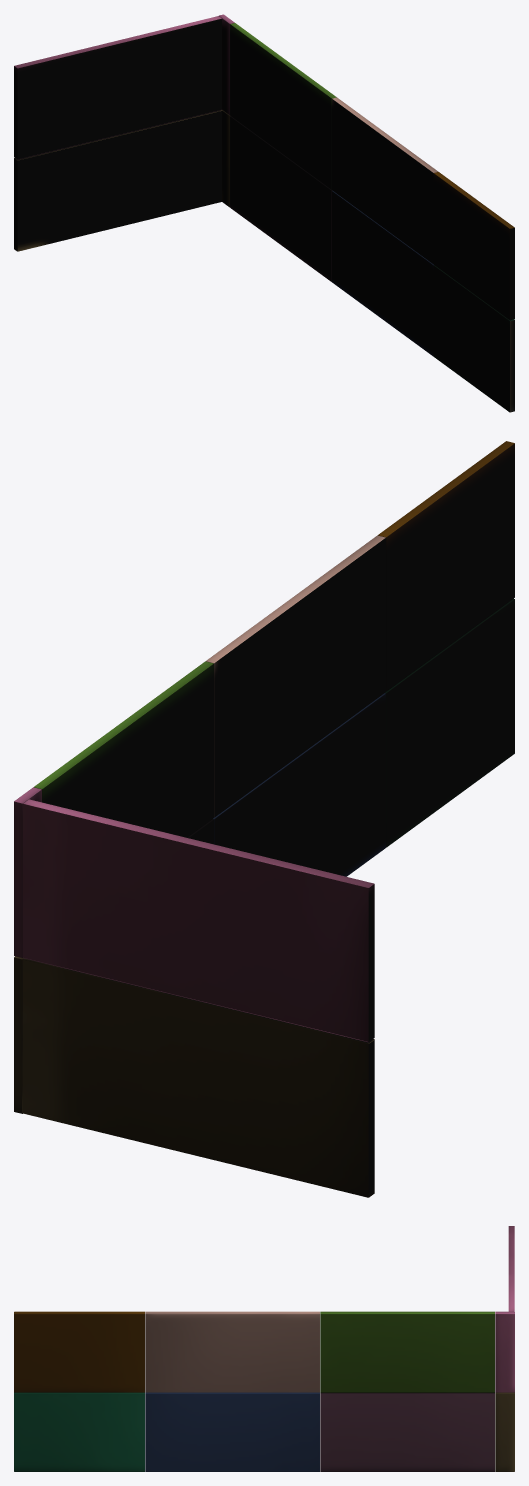
Rendered from FloorBoard.008.gltf.
3 views of the same model, one above another, from view 1: azimuth 30°, elevation 25°; view 2: azimuth 150°, elevation 25°; view 3: azimuth 270°, elevation 25° (orthographic). The views are drawn at different scales.
Parts seen in each view (by area): view 1: FloorBoard.008; view 2: FloorBoard.008; view 3: FloorBoard.008.
Part boxes in pixels (x1,y1,x2,y2): FloorBoard.008: (14,14,514,412); FloorBoard.008: (14,441,514,1197); FloorBoard.008: (14,1226,514,1471).
Bounding box in the file's own units: 0.7142 × 0.598 × 1.72.
1 material, 1 textured.
